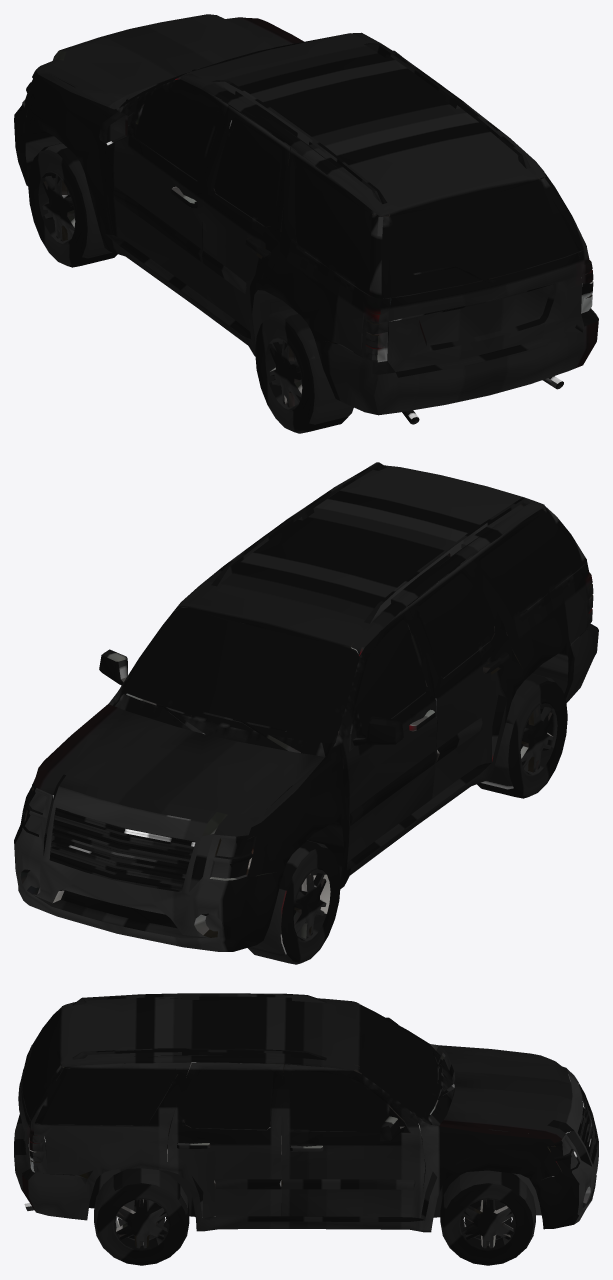
File: suv.glb
The picture shows the model from 3 angles, top to bottom: view 1: azimuth 30°, elevation 25°; view 2: azimuth 150°, elevation 25°; view 3: azimuth 270°, elevation 25°; orthographic projection. The views are drawn at different scales.
Visible parts, largest first — view 1: lod0; view 2: lod0; view 3: lod0.
Part boxes in pixels (<box>): lod0: <box>14,14,598,433</box>; lod0: <box>14,462,598,964</box>; lod0: <box>14,993,598,1265</box>.
Size of what is drawn, in the model's own units: 2.15 by 1.8 by 4.8.
1 material, 1 textured.
